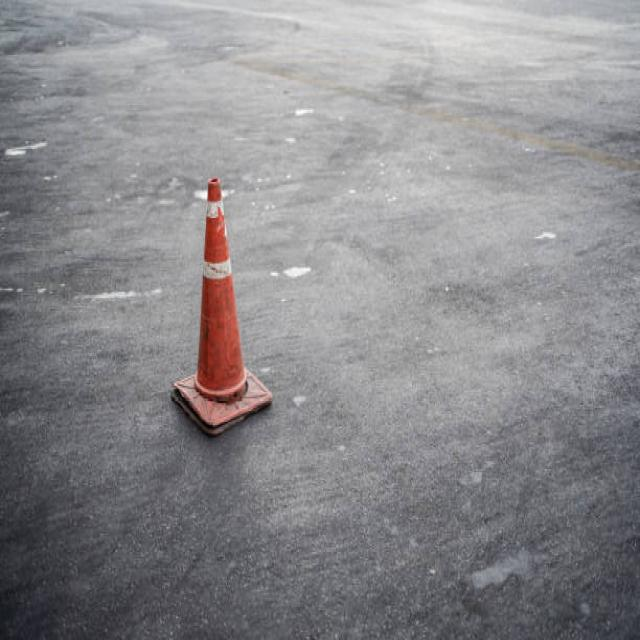Traffic Cone: (152, 138, 287, 455)
